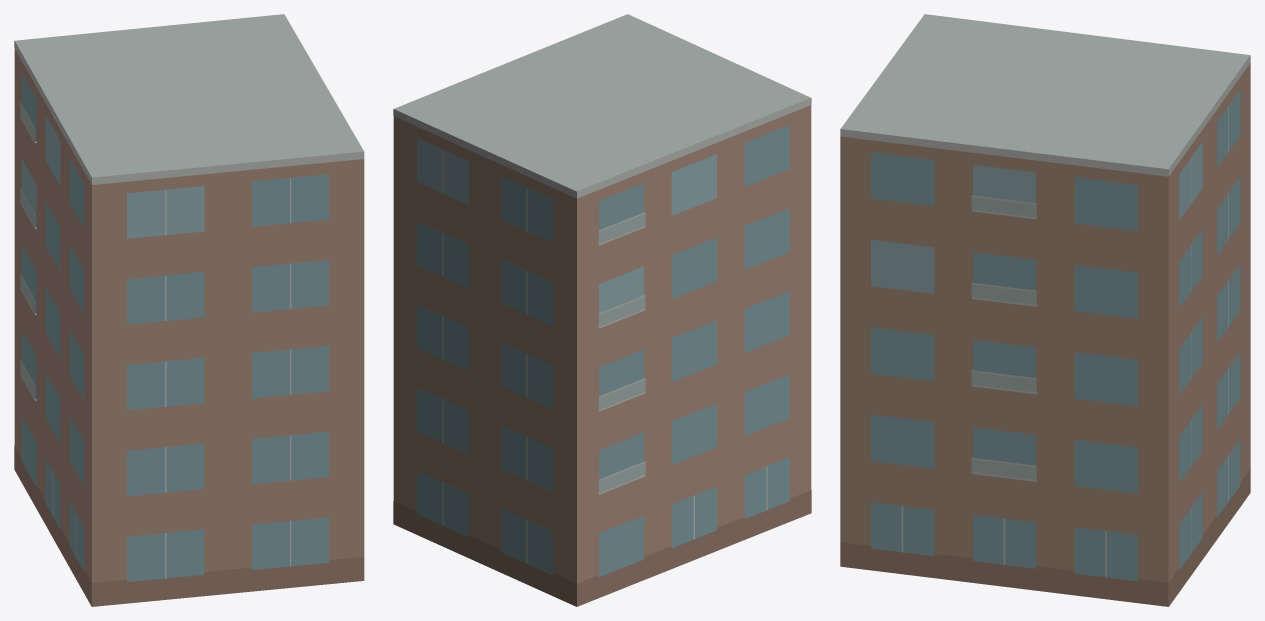
Rendered from survey-upis-32873373.glb.
3 views of the same model, side by side, from view 1: azimuth 30°, elevation 25°; view 2: azimuth 150°, elevation 25°; view 3: azimuth 270°, elevation 25° (orthographic). The views are drawn at different scales.
Parts seen in each view (by area): view 1: survey-upis-32873373.tmp; view 2: survey-upis-32873373.tmp; view 3: survey-upis-32873373.tmp.
Boxes of the visible parts, x1,y1,x2,y2 form: survey-upis-32873373.tmp: (14, 14, 364, 606); survey-upis-32873373.tmp: (393, 14, 811, 606); survey-upis-32873373.tmp: (840, 14, 1250, 606).
Bounding box in the file's own units: 10.9 × 14.3 × 12.16.
